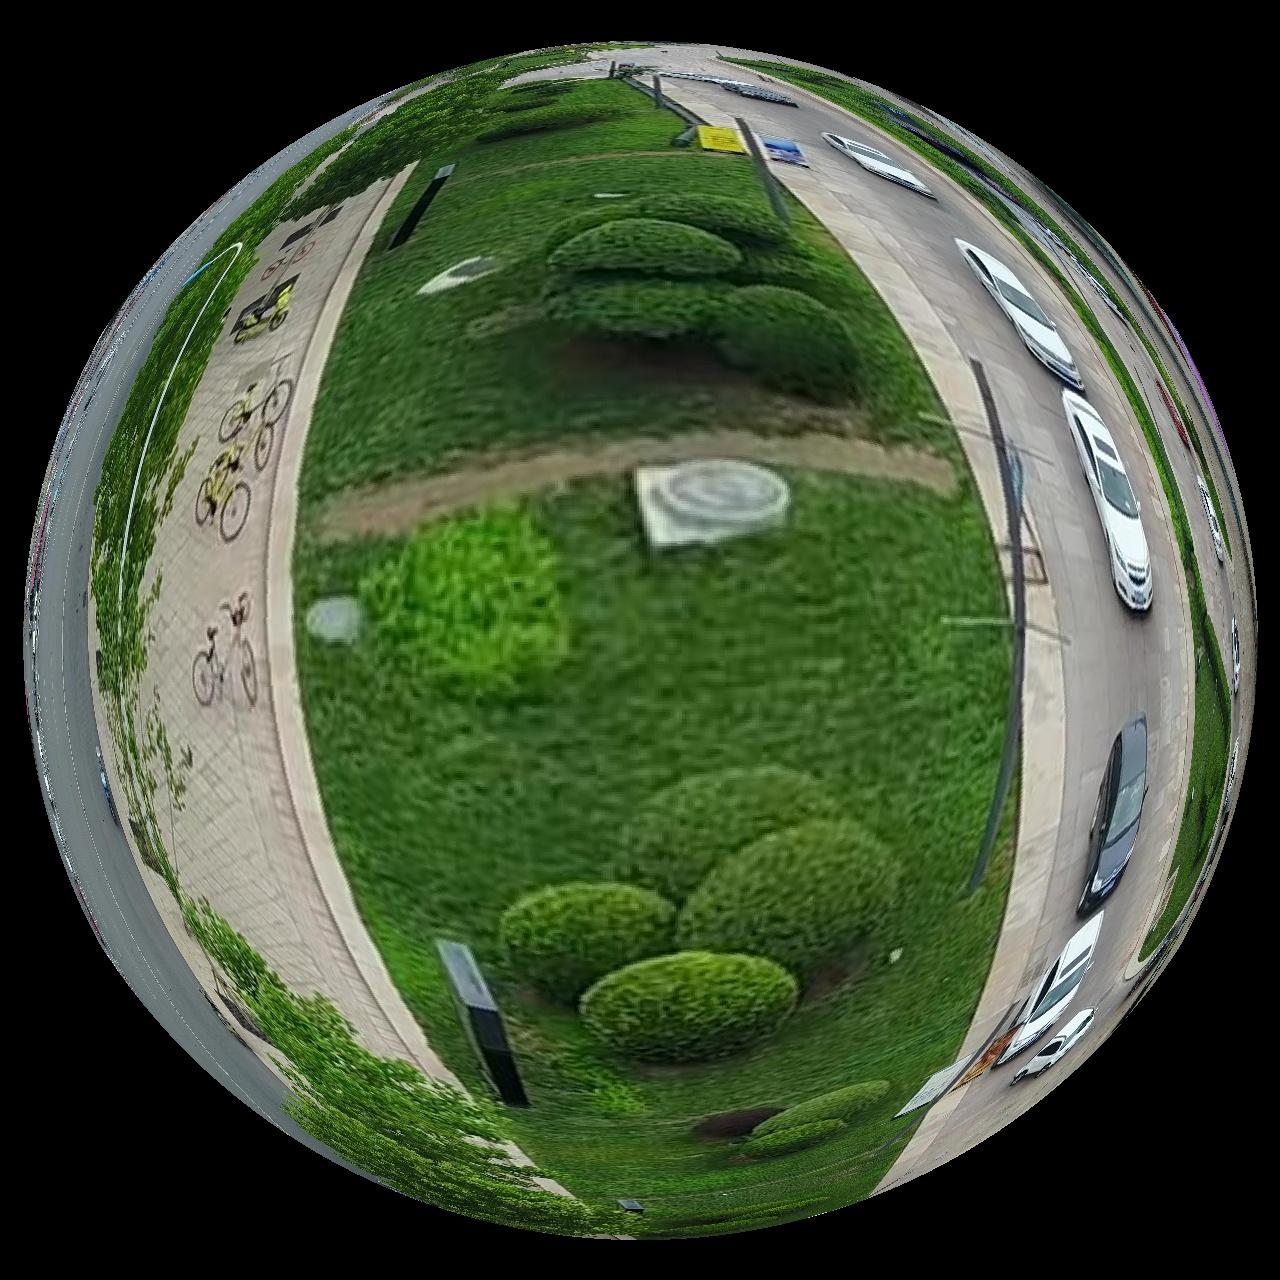cars: (1064, 388, 1155, 612), (956, 237, 1085, 389), (998, 912, 1107, 1069), (1080, 716, 1150, 918), (823, 131, 937, 197), (1015, 1012, 1098, 1087), (720, 77, 799, 105)
trees: (181, 901, 593, 1234), (89, 241, 248, 689), (279, 47, 586, 217), (358, 504, 571, 703), (678, 822, 903, 975), (617, 765, 837, 905), (579, 952, 799, 1063), (501, 883, 678, 1006), (708, 284, 862, 402), (543, 272, 738, 340), (549, 217, 743, 275), (632, 191, 794, 259), (753, 1082, 891, 1141), (545, 199, 645, 254), (744, 1121, 847, 1160), (693, 1109, 782, 1144)
